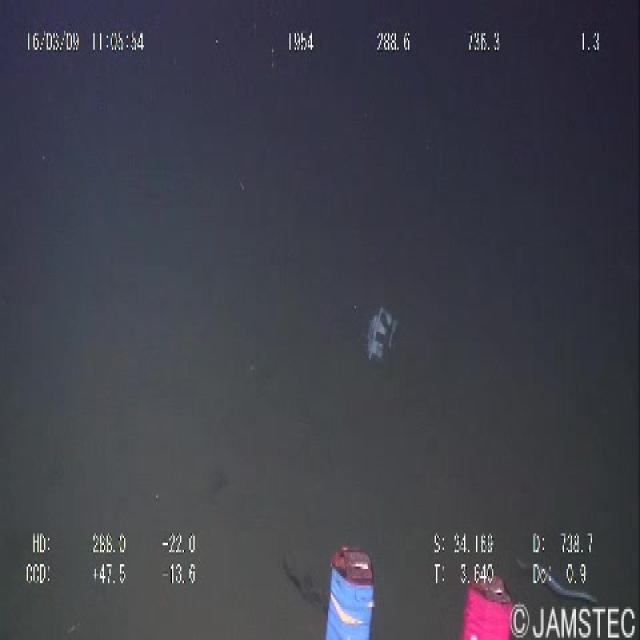plastic: (356, 294, 408, 384)
